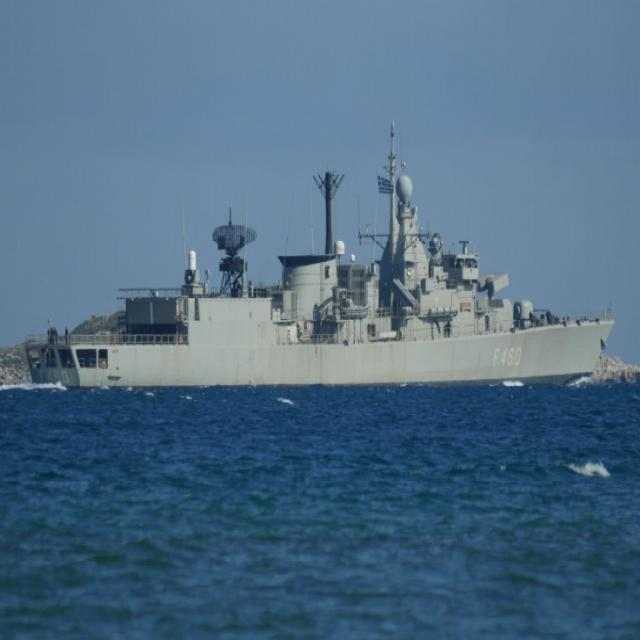Fragata: (24, 117, 621, 399)
